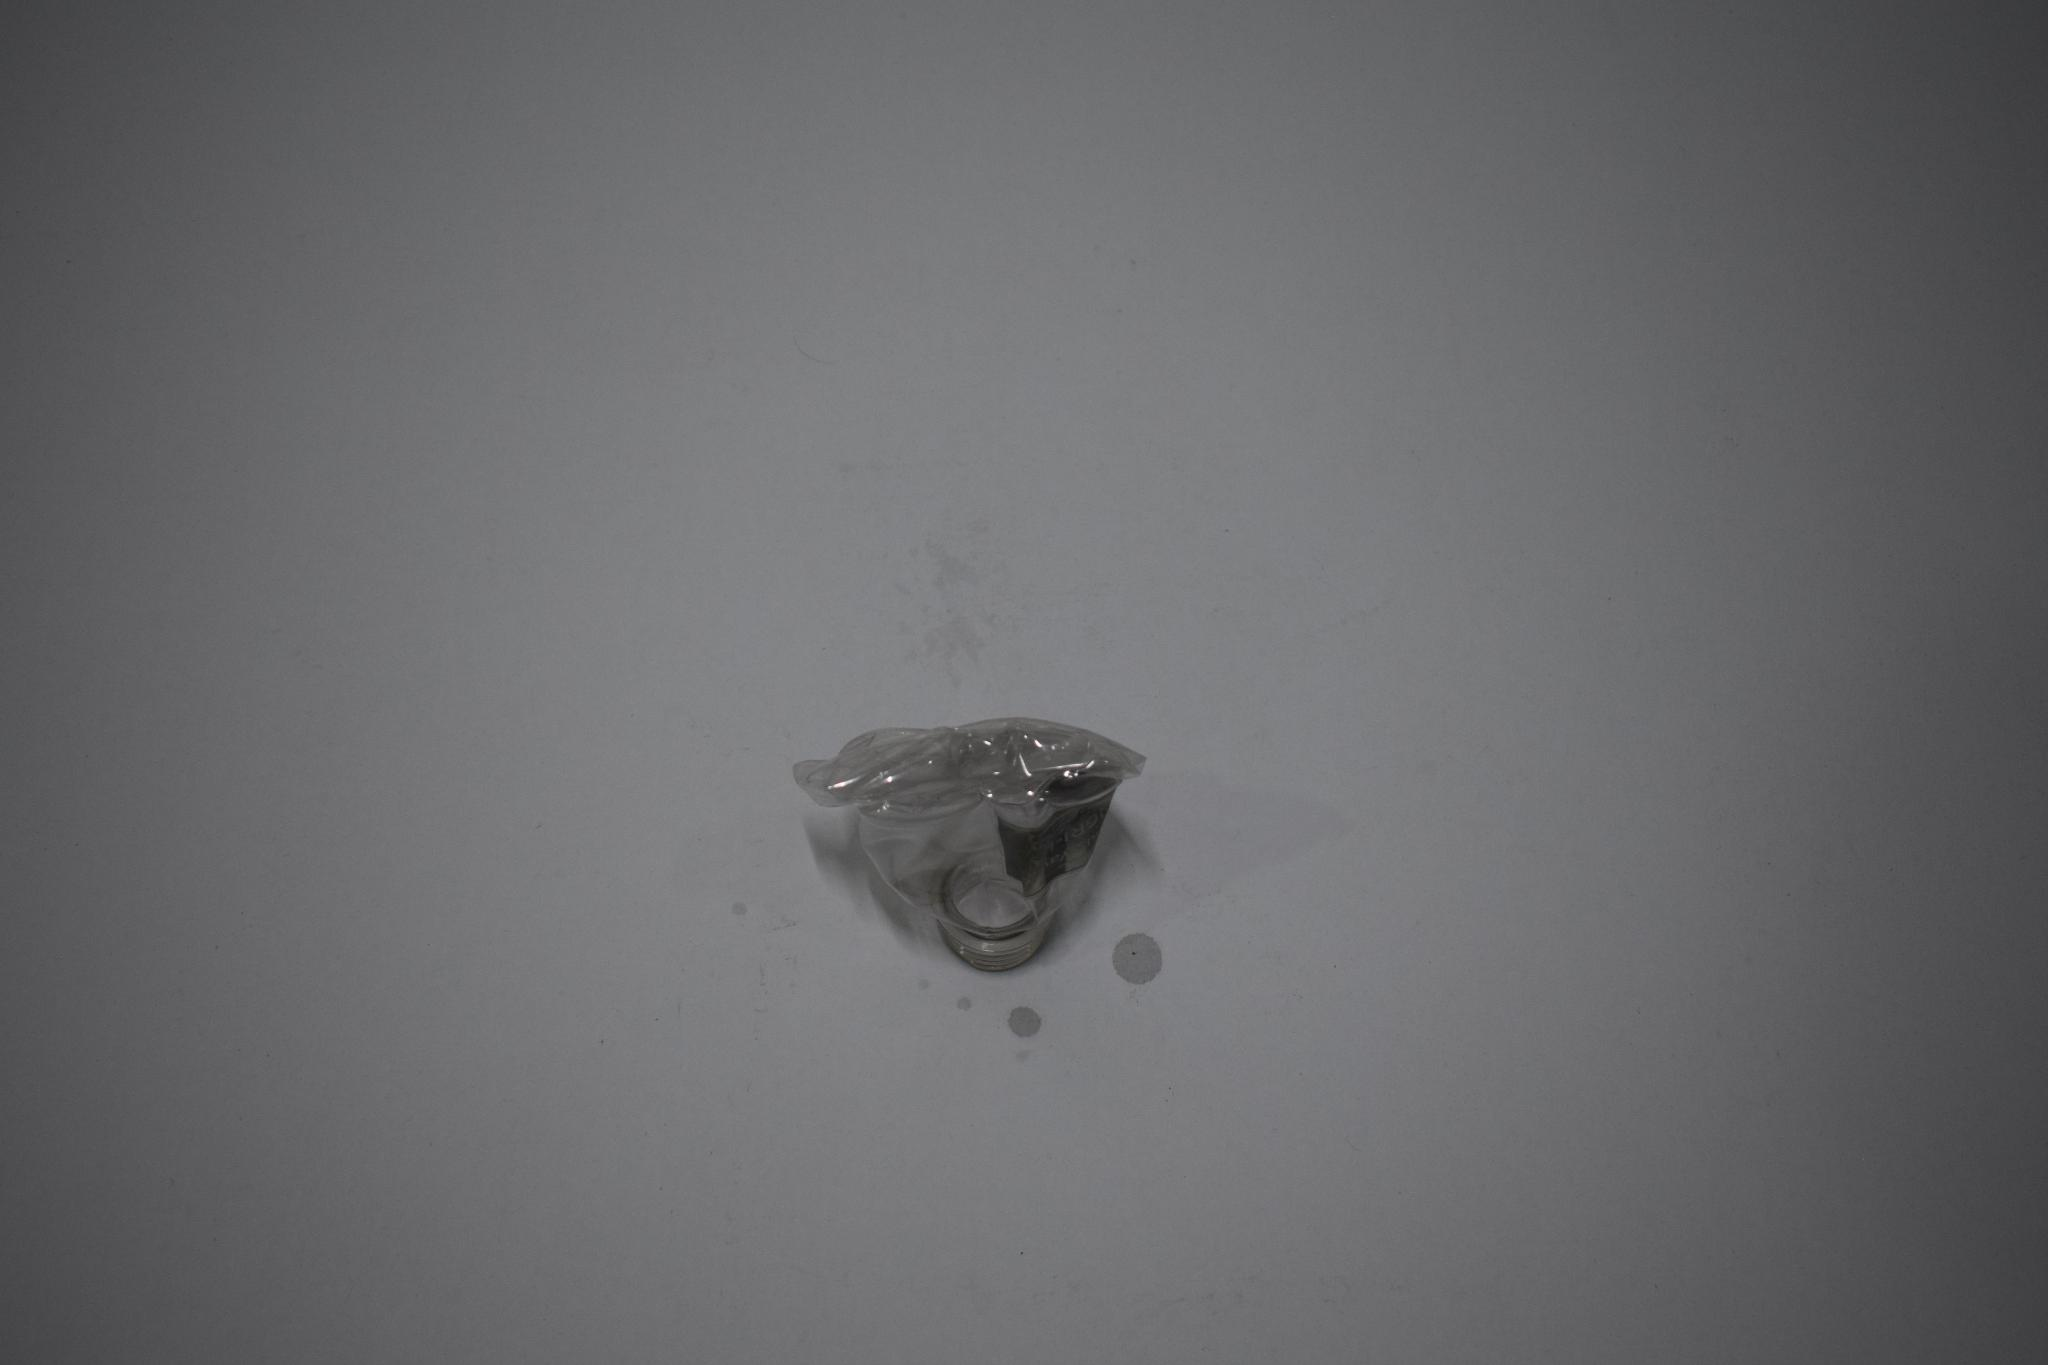bottle: (781, 700, 1153, 982)
